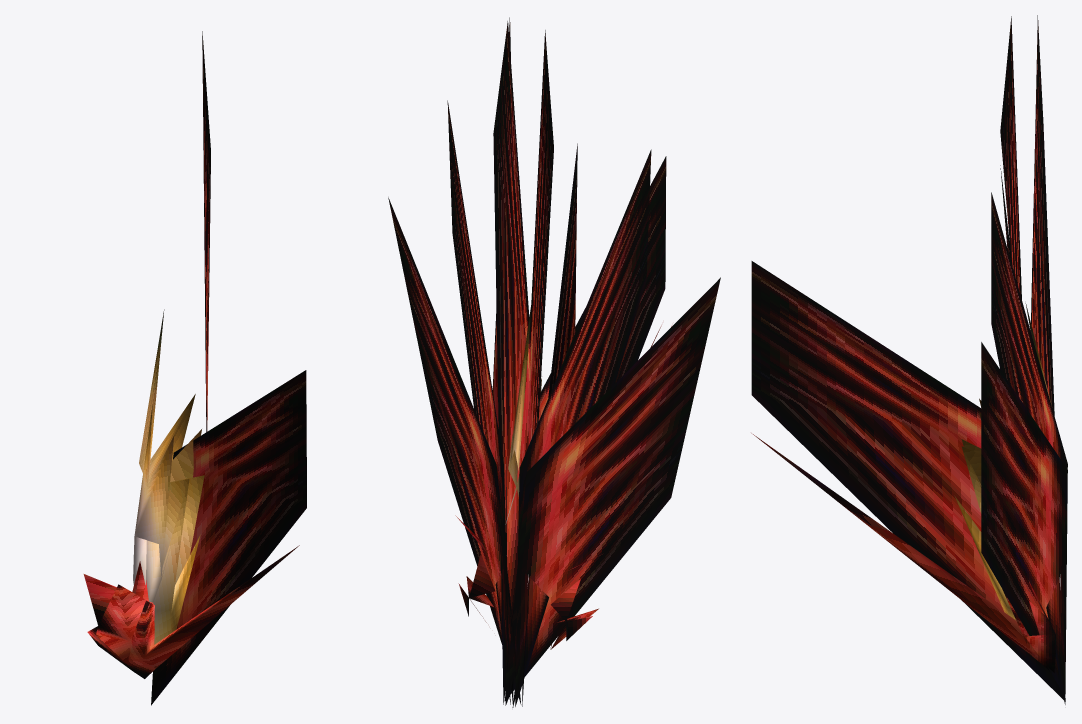
Rendered from darkfirescrem01.glb.
The picture shows the model from 3 angles, left to right: view 1: azimuth 30°, elevation 25°; view 2: azimuth 150°, elevation 25°; view 3: azimuth 270°, elevation 25°; orthographic projection. The views are drawn at different scales.
Parts seen in each view (by area): view 1: model_darkfirescrem01; view 2: model_darkfirescrem01; view 3: model_darkfirescrem01.
Boxes of the visible parts, x1,y1,x2,y2 form: model_darkfirescrem01: [83, 31, 306, 705]; model_darkfirescrem01: [388, 17, 720, 707]; model_darkfirescrem01: [751, 15, 1067, 704].
Bounding box in the file's own units: 2 × 3.88 × 1.64.
2 materials, 2 textured.
